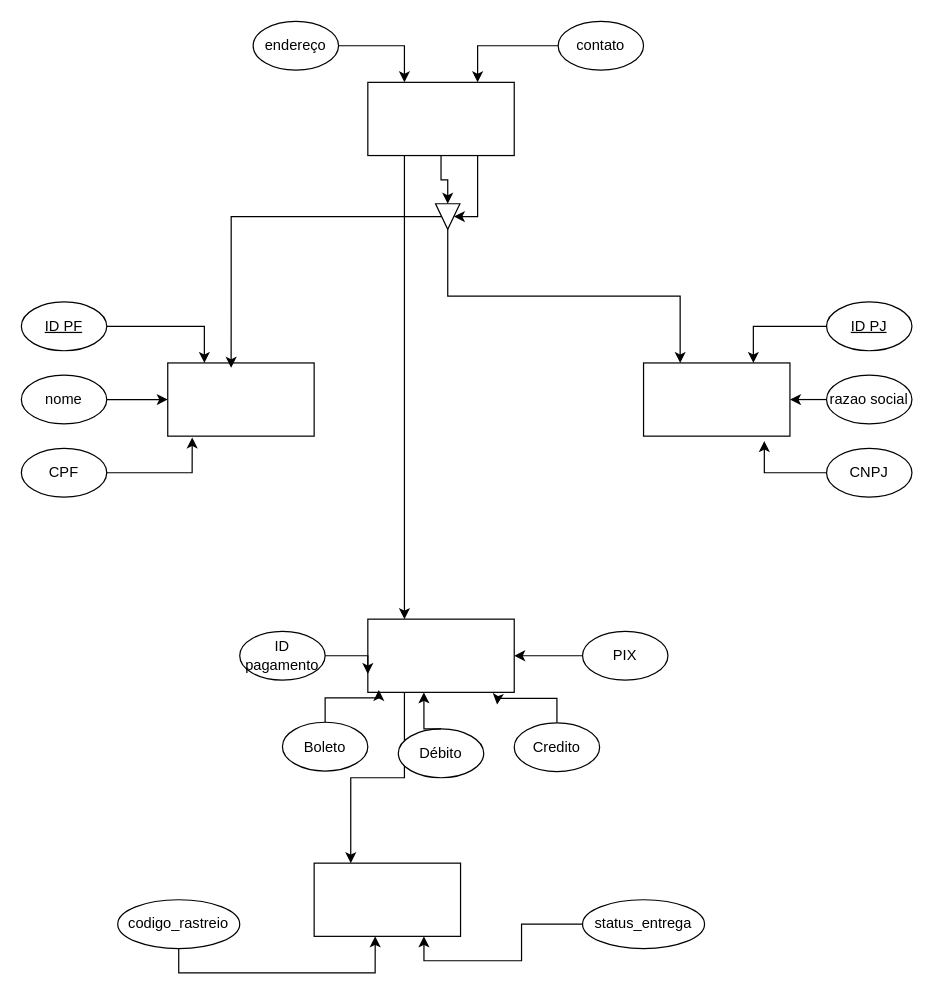
The diagram is 933 pixels wide and 1004 high, and some of its shapes have lost their labels. Each missing label, with the box of its shape:
Cliente: (367, 81, 514, 156)
Entrega: (313, 862, 461, 936)
Meio de Pagamento: (367, 618, 514, 692)
Pessoa Física PF: (167, 362, 314, 436)
Pessoa Jurídica PJ: (642, 362, 790, 436)
